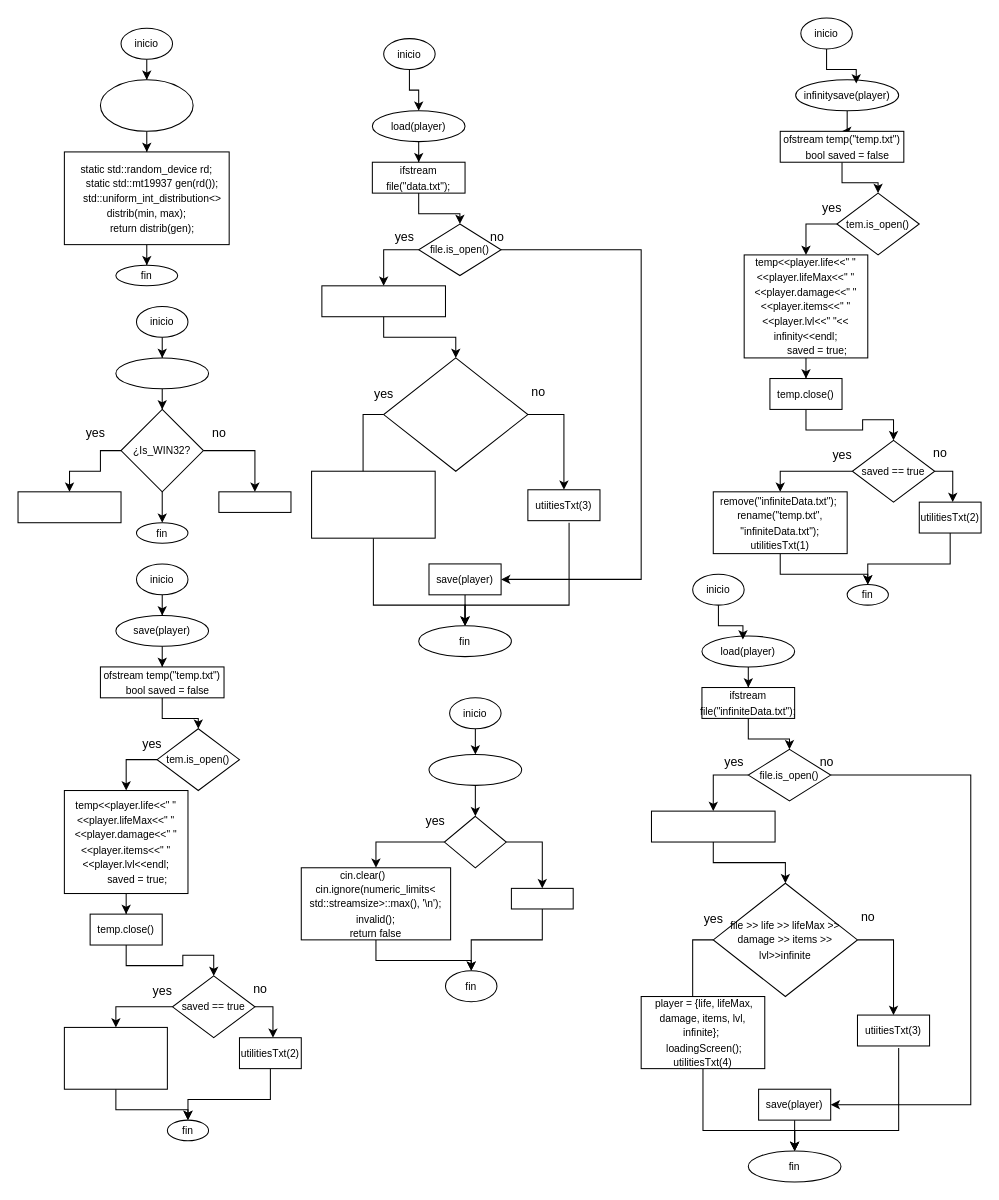
Some shapes in this 999 by 1200 pixel diagram are drawn without their labels. The box of each missing label's shape, as (x1, y1, x2, y2) in pixels:
cin.fail(): (443, 815, 506, 868)
cinControl(): (428, 753, 522, 785)
file >> life >> lifeMax >> damage >> items >> lvl: (383, 357, 528, 471)
int life, lifeMax, damage, items, lvl, infinite;: (650, 810, 775, 842)
int life, lifeMax, damage, items, lvl;: (321, 285, 445, 317)
player = {life, lifeMax, damage, items, lvl}; loadingScreen(); utilitiesTxt(4): (311, 470, 435, 538)
randonNum(min, max): (99, 79, 193, 131)
remove("data.txt"); rename("temp.txt", "data.txt"); utilitiesTxt(1): (63, 1026, 167, 1089)
return false: (510, 887, 573, 909)
Sleep(secs * 1000);: (17, 491, 121, 523)
sleep(secs);: (218, 491, 291, 512)
timer(secs): (115, 357, 209, 389)
